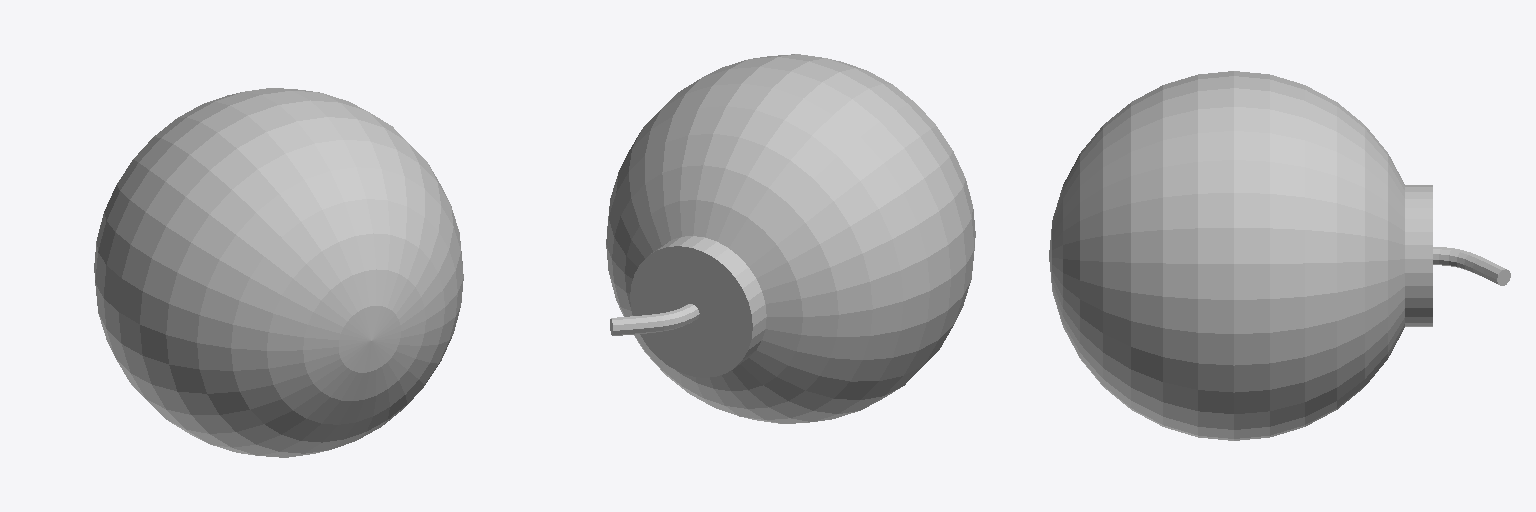
File: bomb.obj
3 views of the same model, side by side, from view 1: azimuth 30°, elevation 25°; view 2: azimuth 150°, elevation 25°; view 3: azimuth 270°, elevation 25° (orthographic).
Parts seen in each view (by area): view 1: Cube; view 2: Cube, BezierCurve_BezierCurve.001; view 3: Cube, BezierCurve_BezierCurve.001.
Boxes of the visible parts, x1,y1,x2,y2 form: Cube: [94, 88, 463, 457]; Cube: [606, 54, 975, 423]; BezierCurve_BezierCurve.001: [610, 304, 699, 335]; Cube: [1049, 71, 1439, 440]; BezierCurve_BezierCurve.001: [1433, 247, 1510, 285].
Bounding box in the file's own units: 2 × 2 × 2.49.